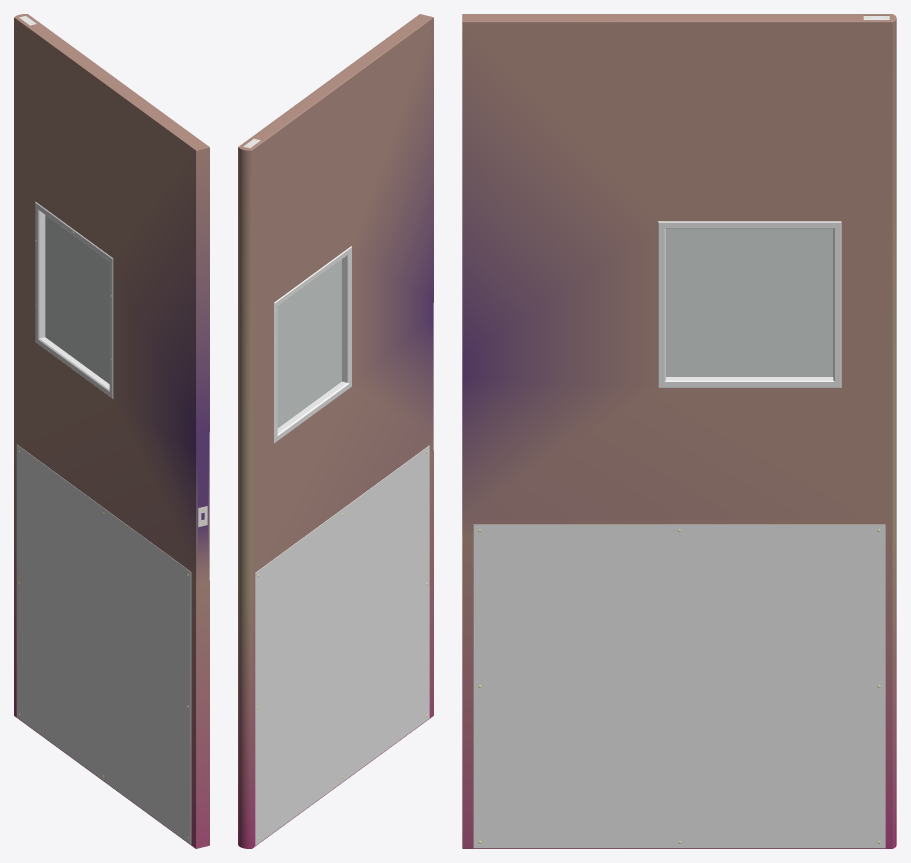
Rendered from Kit_DoorLeaf_Ward_DA.fbx.
The picture shows the model from 3 angles, left to right: view 1: azimuth 30°, elevation 25°; view 2: azimuth 150°, elevation 25°; view 3: azimuth 270°, elevation 25°; orthographic projection. The views are drawn at different scales.
Parts seen in each view (by area): view 1: Kit_DoorLeaf_Ward_DA_LOD0; view 2: Kit_DoorLeaf_Ward_DA_LOD0; view 3: Kit_DoorLeaf_Ward_DA_LOD0.
Part boxes in pixels (box(x1,y1,x2,y2)): Kit_DoorLeaf_Ward_DA_LOD0: box(14, 14, 209, 848); Kit_DoorLeaf_Ward_DA_LOD0: box(238, 14, 433, 848); Kit_DoorLeaf_Ward_DA_LOD0: box(462, 14, 896, 848).
Size of what is drawn, in the model's own units: 0.0498 by 2.08 by 0.9902.
